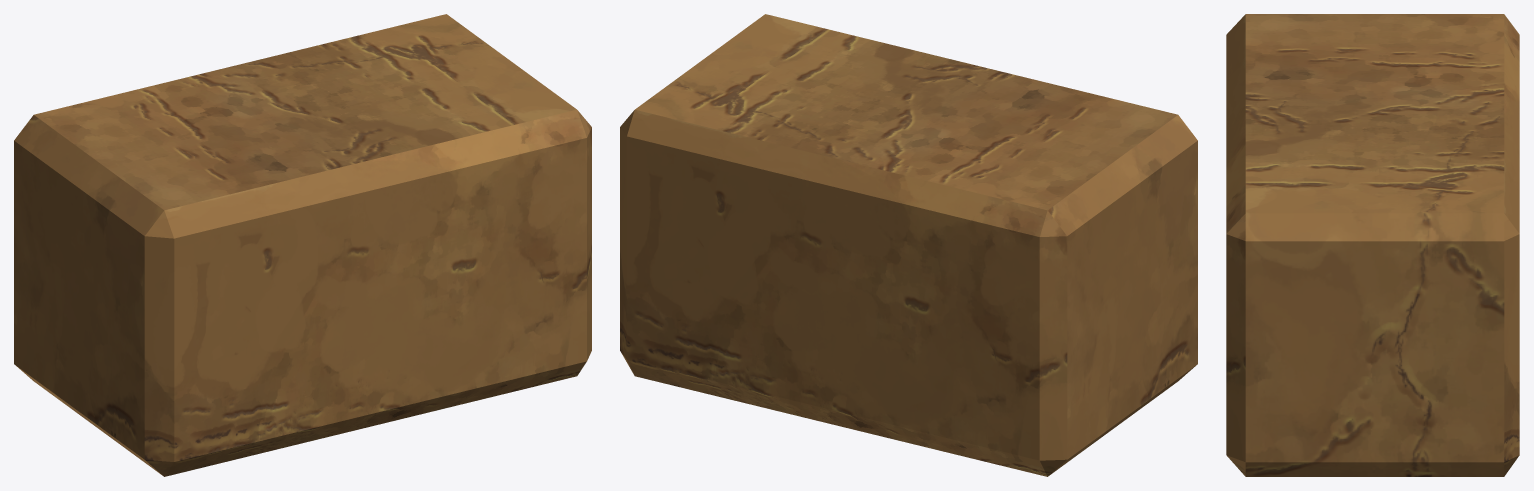
The model's file is Medium_Rock.FBX.
3 views of the same model, side by side, from view 1: azimuth 30°, elevation 25°; view 2: azimuth 150°, elevation 25°; view 3: azimuth 270°, elevation 25° (orthographic).
Visible parts, largest first — view 1: Medium_Rock; view 2: Medium_Rock; view 3: Medium_Rock.
Part boxes in pixels (bbox=[...]): Medium_Rock: bbox=[14, 14, 591, 476]; Medium_Rock: bbox=[620, 14, 1197, 476]; Medium_Rock: bbox=[1226, 14, 1519, 476].
Bounding box in the file's own units: 81.73 × 46.55 × 46.95.
